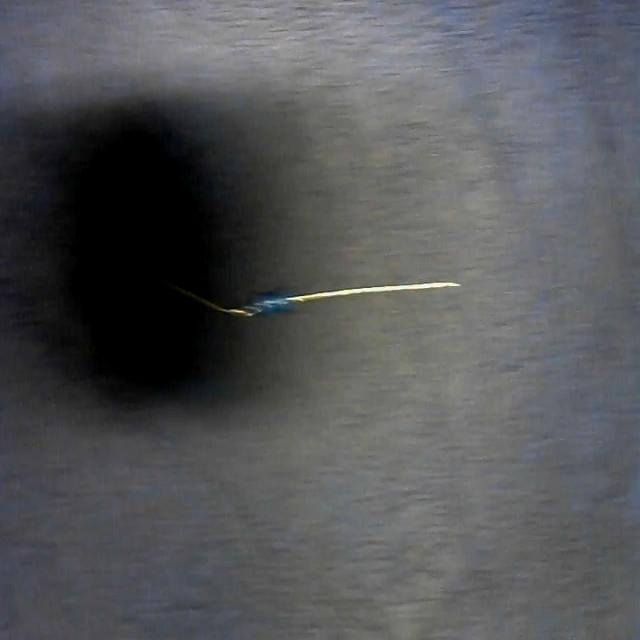resistor: (169, 257, 462, 327)
